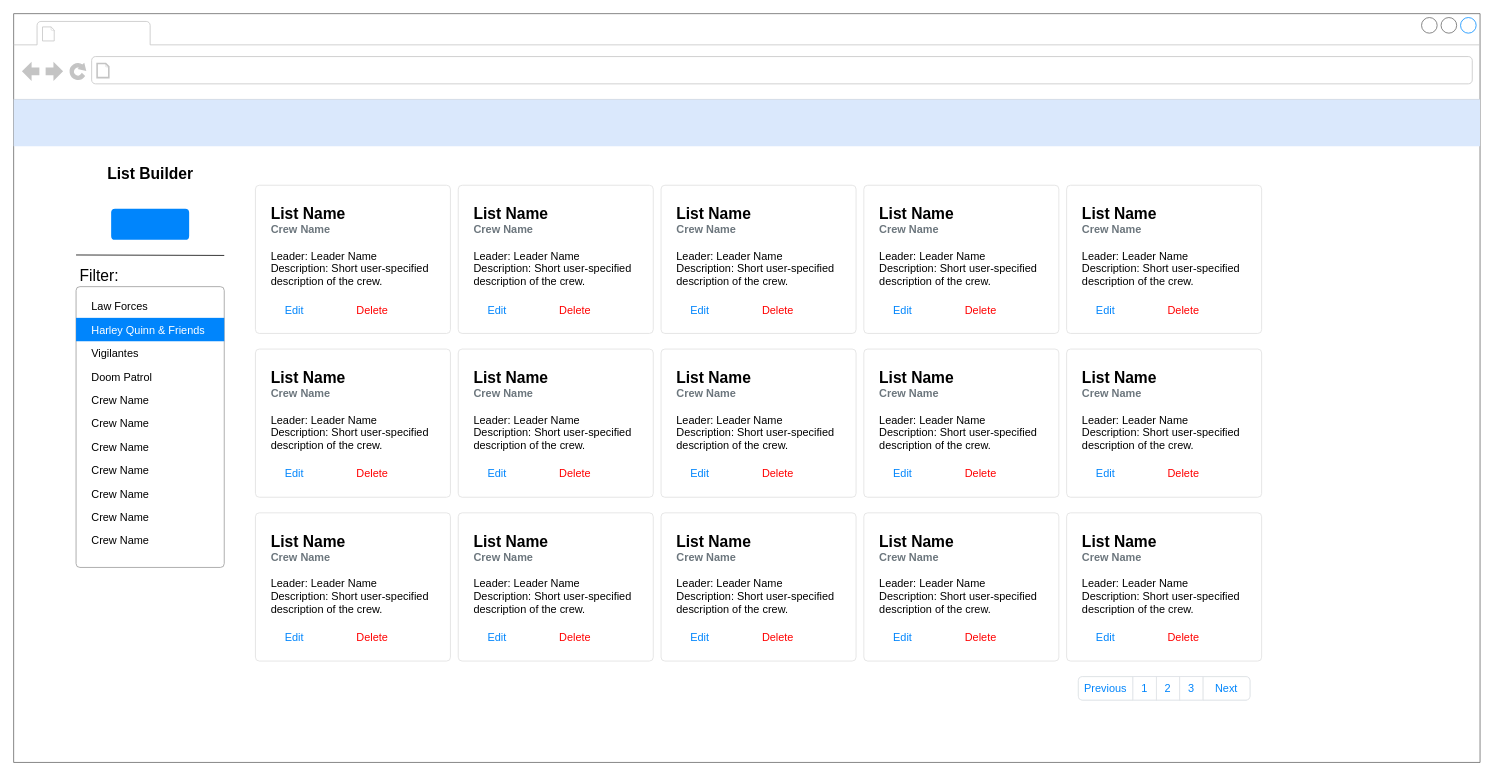
Some shapes in this 1494 by 776 pixel diagram are drawn without their labels. Here are the shapes that lost their labels. From the top down, the box of each, then its label:
(60, 22, 146, 43): Page 1
(114, 60, 310, 81): https://www.draw.io
(13, 99, 1480, 146): Bat Stats
(111, 208, 189, 239): Add Crew
